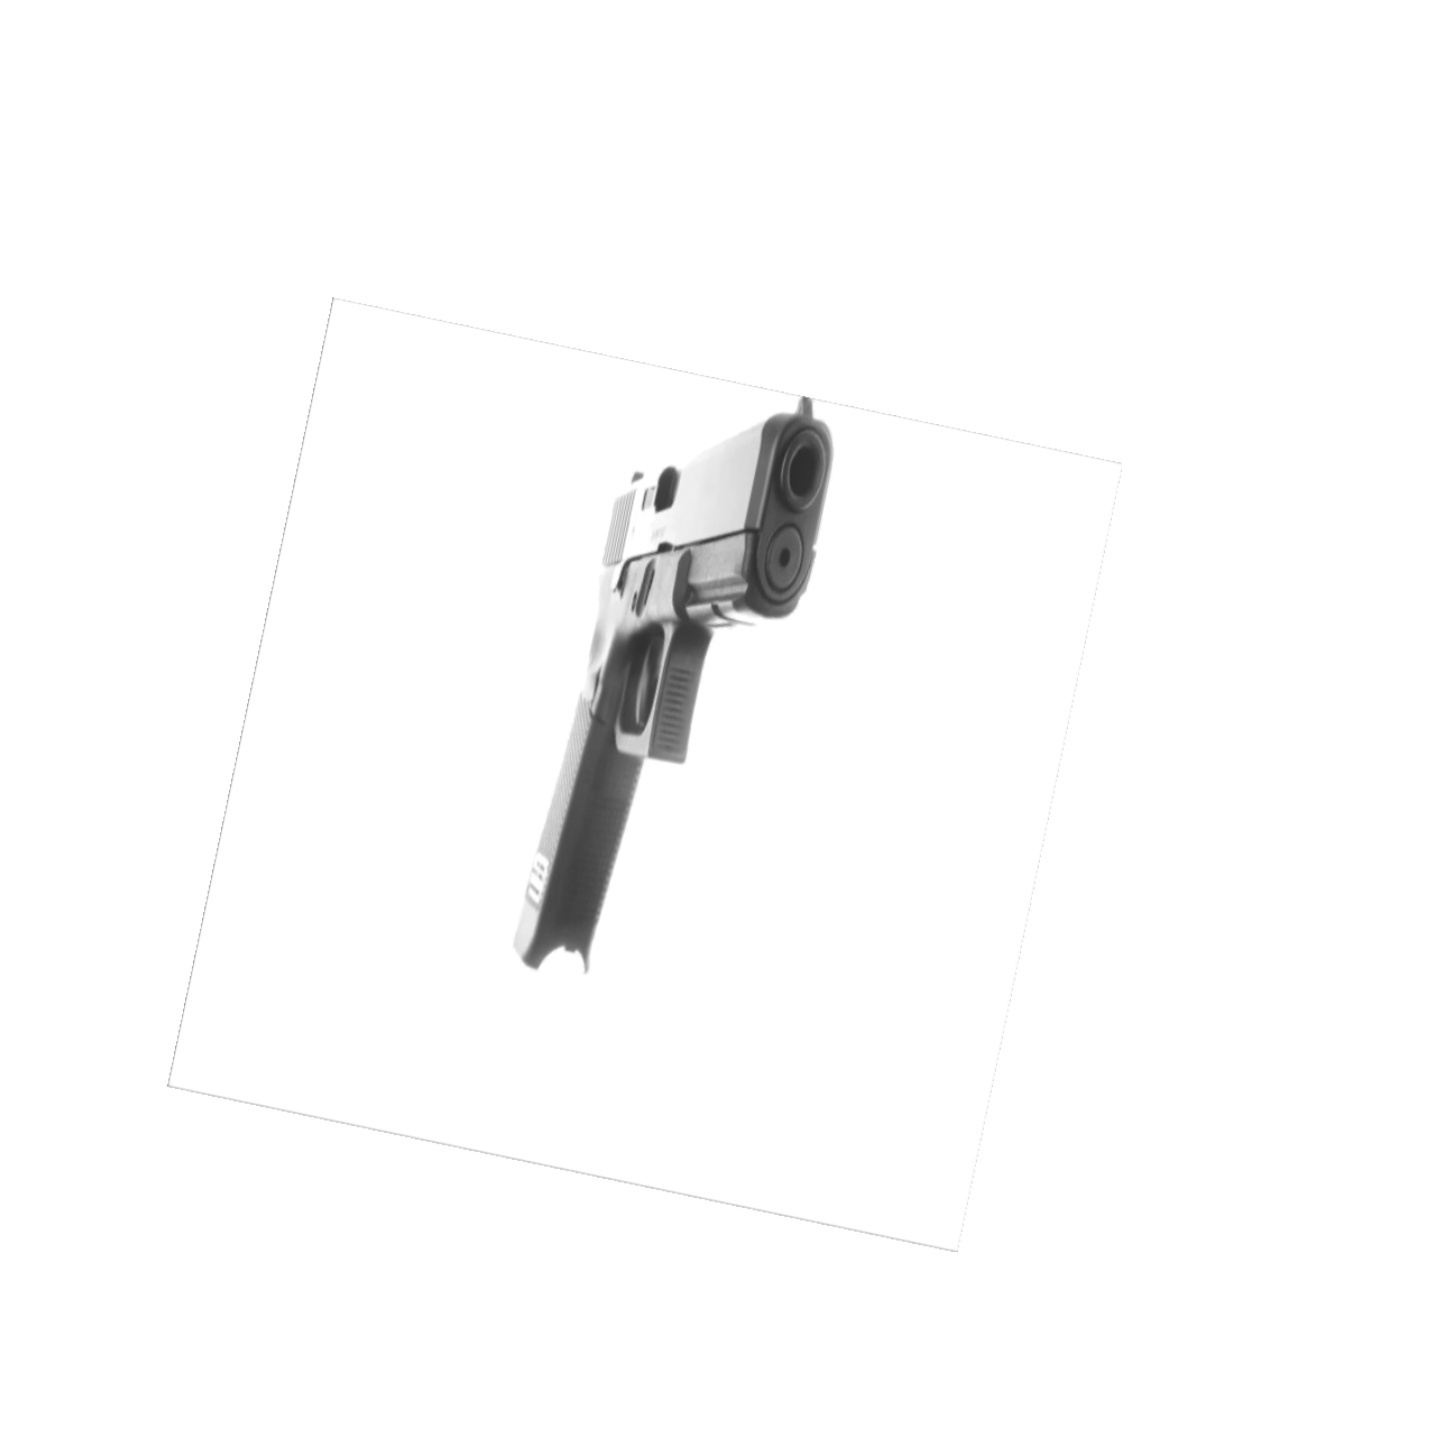gun: (510, 395, 870, 992)
